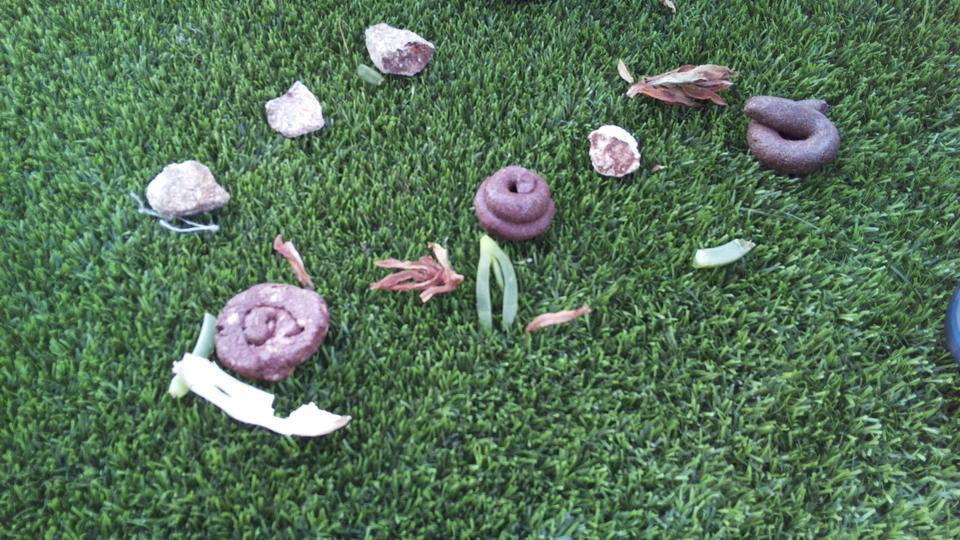poop: (212, 277, 336, 382), (745, 89, 841, 179), (473, 163, 557, 240)
